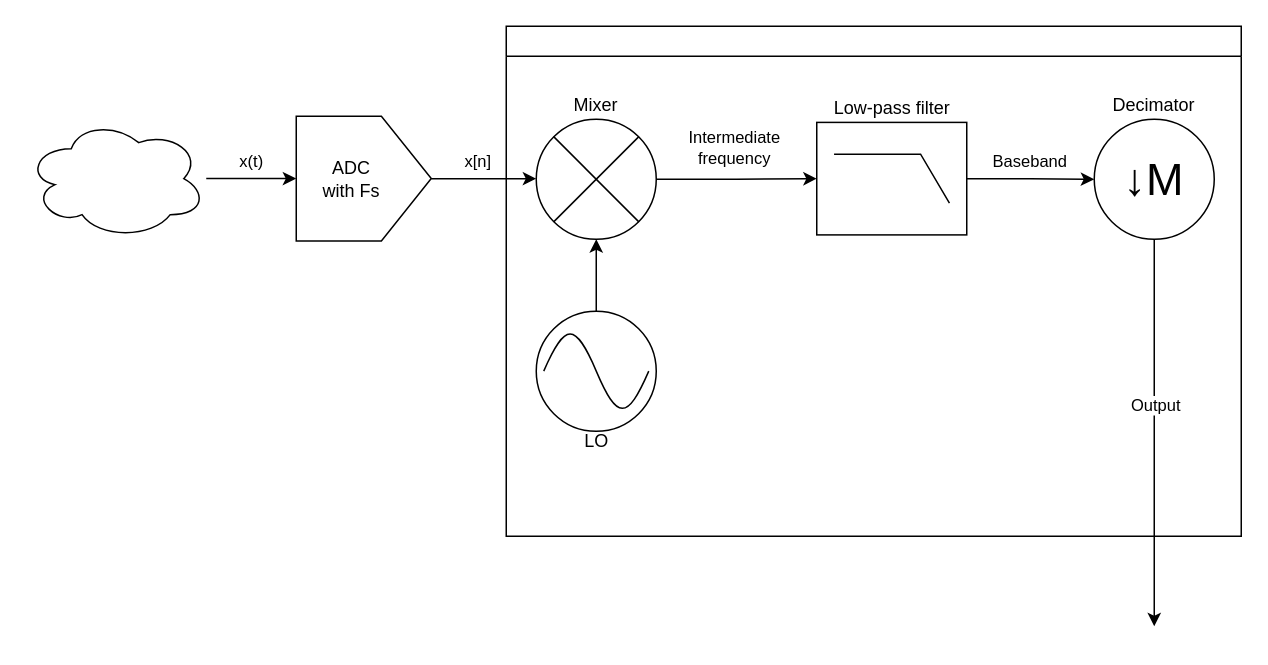
Image size: 1268x665. Some labels were removed from this diagram. The shapes that lost their labels are listed below. From the top down, each one's box as (x1, y1, x2, y2) in pixels, then its label:
(25, 117, 206, 239): Observation Target
(505, 25, 1241, 536): DIGITAL DOWNCONVERTER
